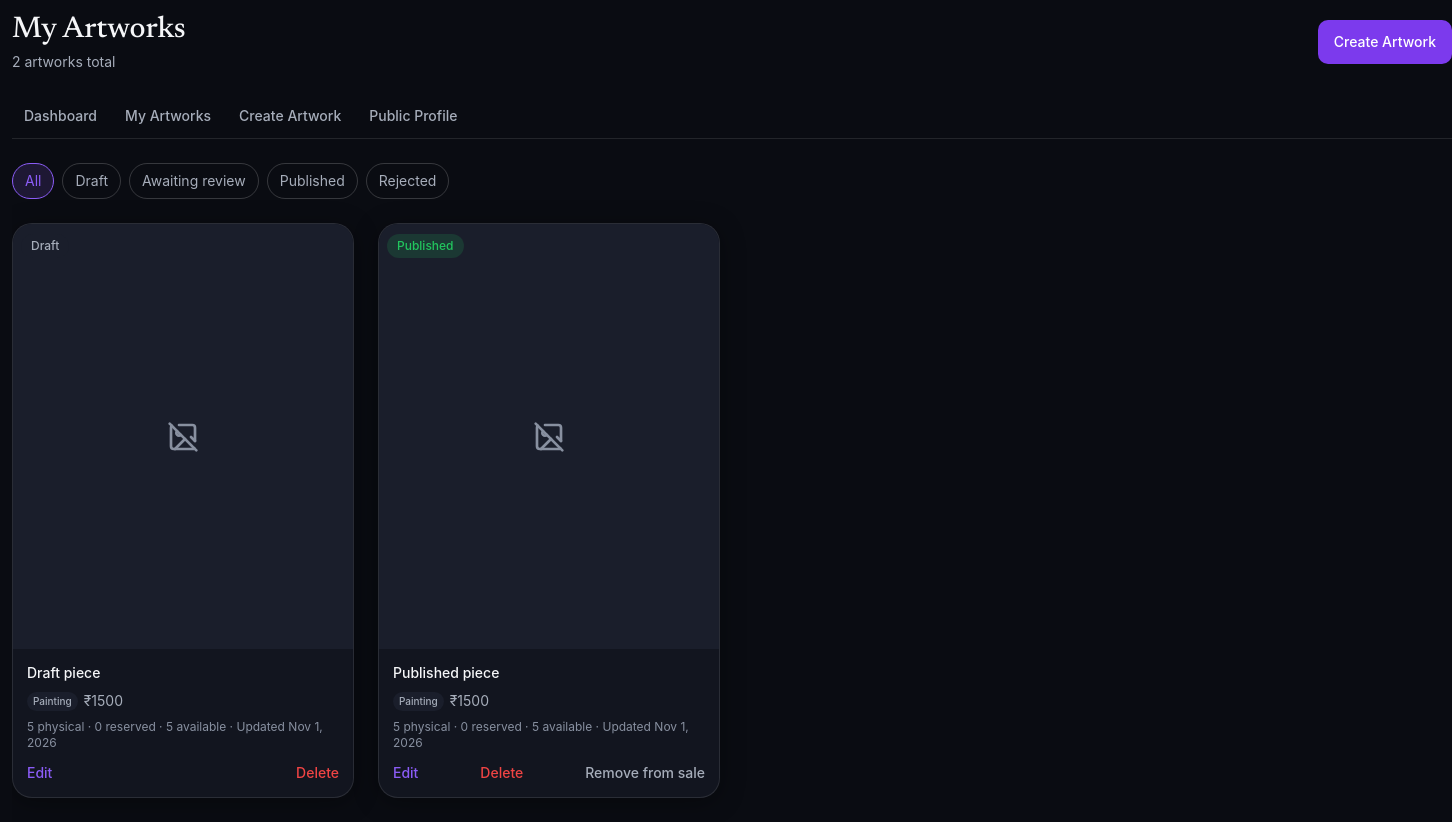
ArtworkListPage › filters the list by status when a chip is selected
Click the button "Published".
click(312, 181)  # box [267, 163, 358, 199]
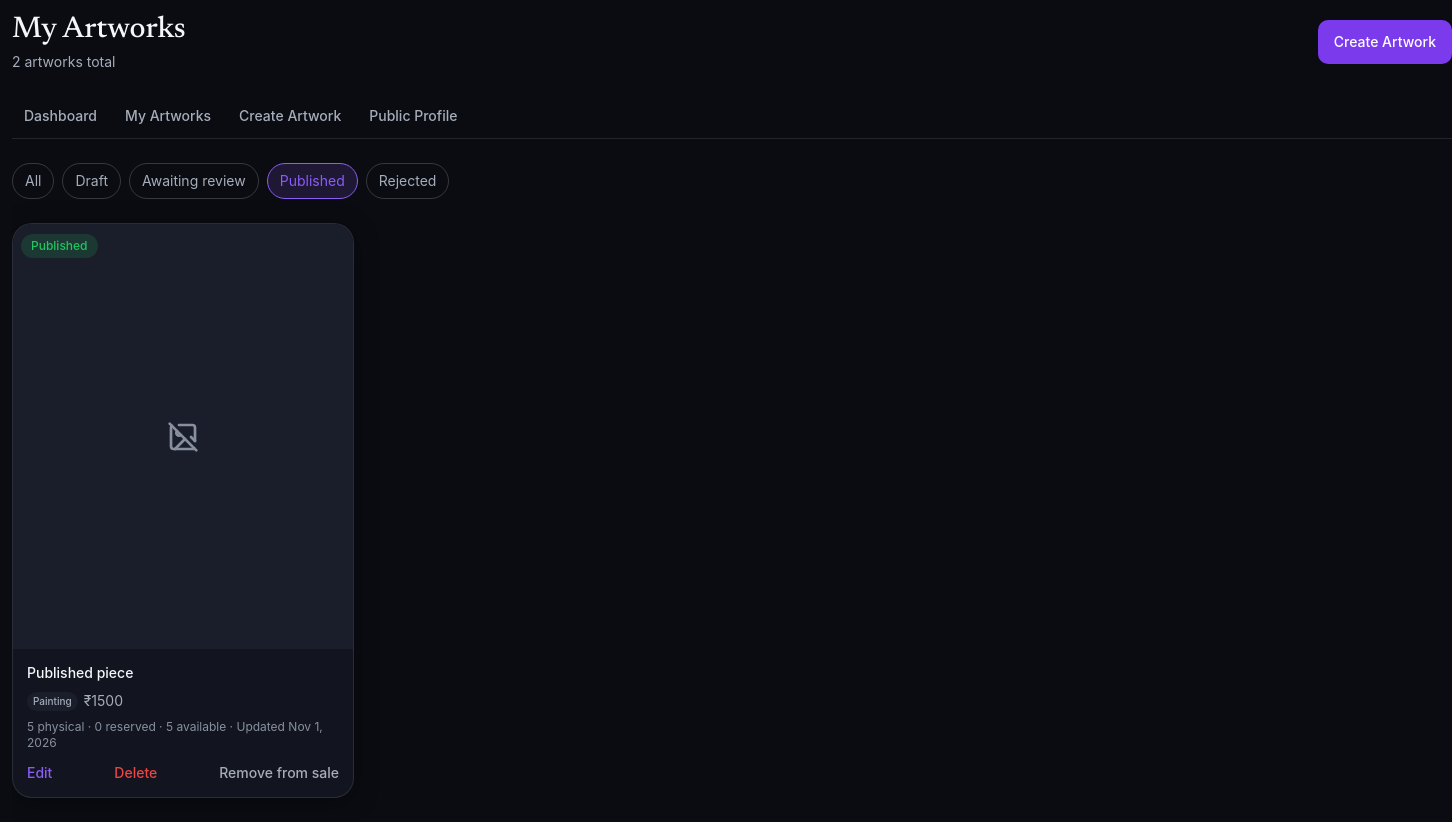
Expected: the heading "Published piece" is shown, [27, 664, 133, 681]
Expected: the heading "Draft piece" is gone
